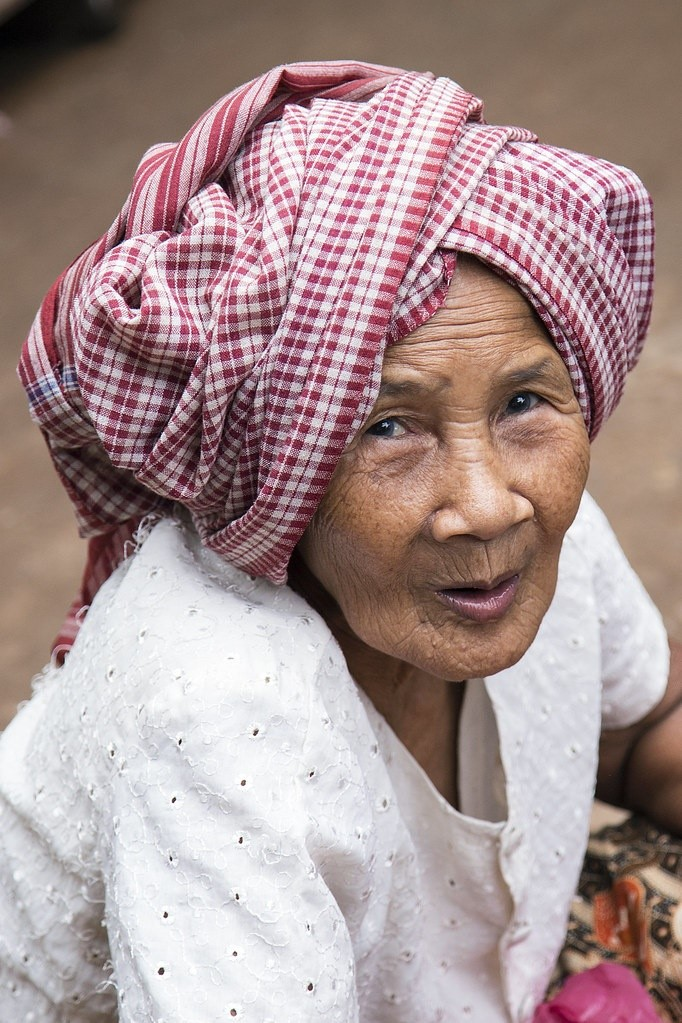face_no_mask: (262, 213, 592, 681)
